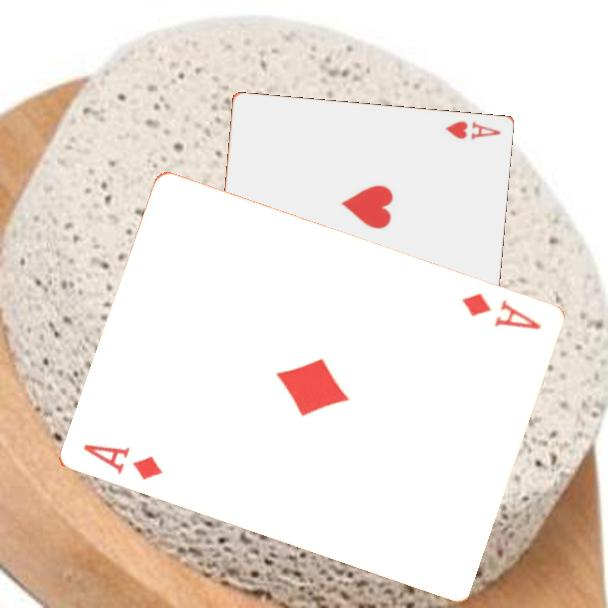d01: (457, 289, 544, 333), (79, 441, 166, 484)
h01: (441, 118, 503, 143)
